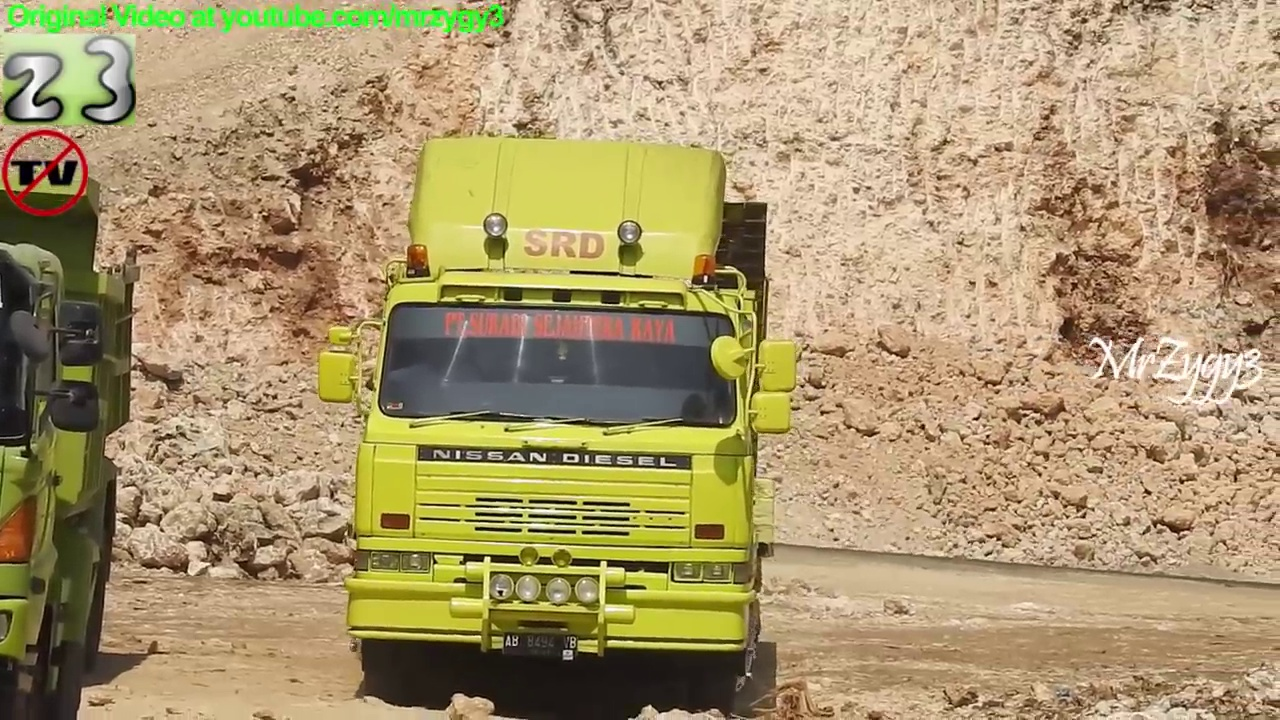truck: (313, 130, 806, 720), (1, 160, 143, 720)
